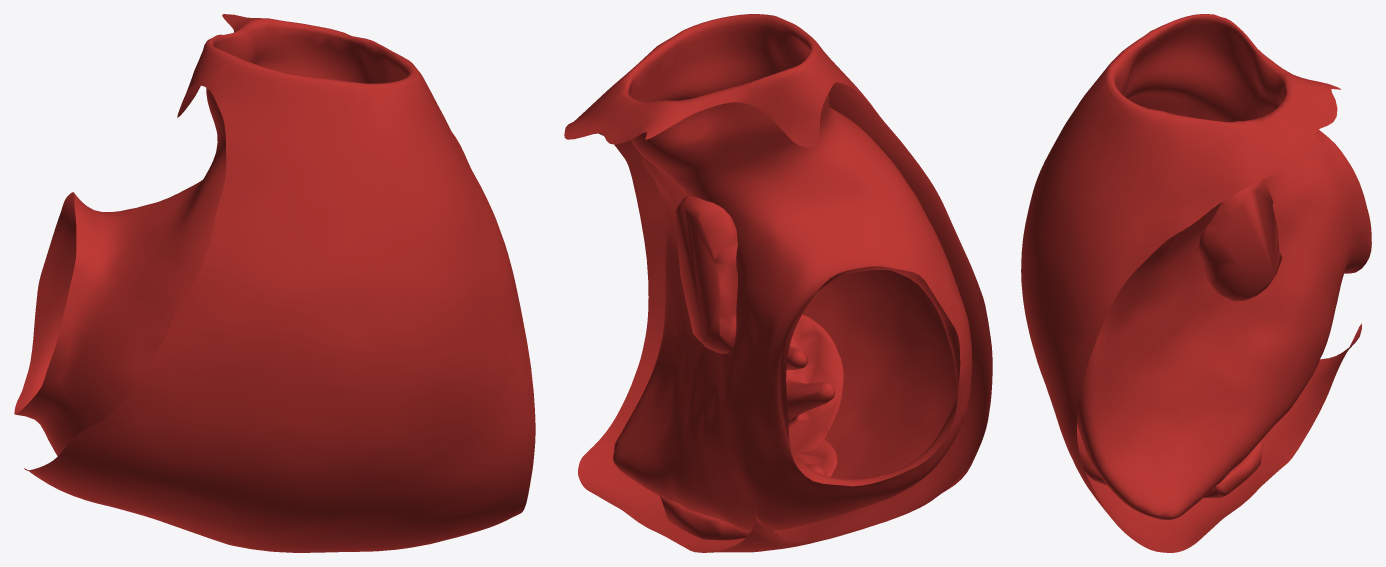
Rendered from circulatorio-right-ventricle.glb.
3 views of the same model, side by side, from view 1: azimuth 30°, elevation 25°; view 2: azimuth 150°, elevation 25°; view 3: azimuth 270°, elevation 25° (orthographic). The views are drawn at different scales.
Visible parts, largest first — view 1: Right ventricle; view 2: Right ventricle, Septal papillary muscle of right ventricle, Anterior papillary muscle of right ventricle, Inferior papillary muscle of right ventricle; view 3: Right ventricle, Septal papillary muscle of right ventricle, Inferior papillary muscle of right ventricle, Anterior papillary muscle of right ventricle.
Part boxes in pixels (x1,y1,x2,y2): Right ventricle: (14, 14, 535, 552); Right ventricle: (564, 14, 992, 552); Septal papillary muscle of right ventricle: (675, 195, 737, 353); Anterior papillary muscle of right ventricle: (786, 314, 843, 452); Inferior papillary muscle of right ventricle: (660, 438, 837, 540); Right ventricle: (1021, 14, 1371, 552); Septal papillary muscle of right ventricle: (1199, 180, 1281, 301); Inferior papillary muscle of right ventricle: (1203, 440, 1262, 497); Anterior papillary muscle of right ventricle: (1077, 424, 1106, 485).
Size of the model in its own units: 0.0826 by 0.0924 by 0.067.
